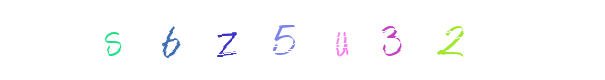2: (411, 0, 491, 80)
3: (351, 0, 431, 80)
5: (262, 0, 342, 80)
6: (155, 0, 235, 80)
S: (73, 0, 153, 80)
U: (284, 0, 364, 80)
Z: (212, 0, 292, 80)
